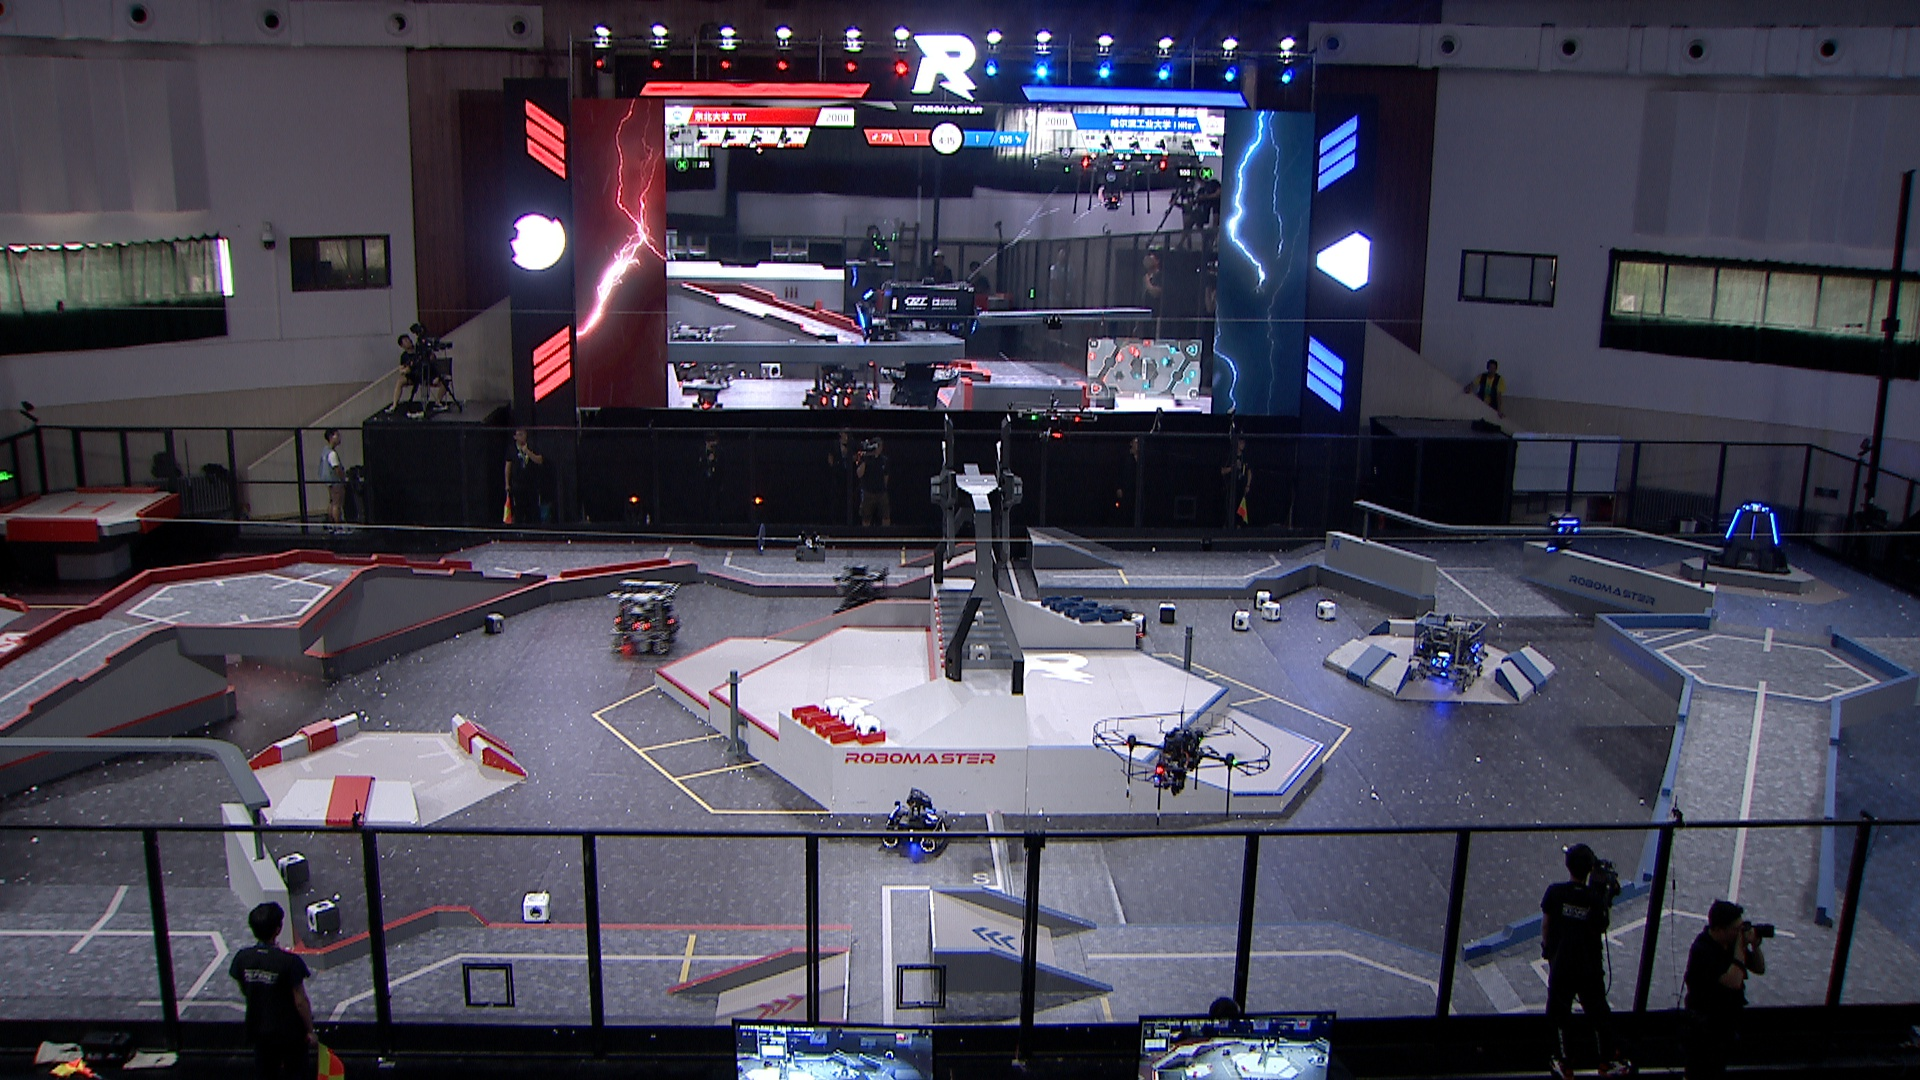armor: (1722, 506, 1742, 538), (1768, 512, 1782, 546), (1749, 513, 1759, 542), (1742, 502, 1770, 513), (1429, 657, 1449, 670), (1557, 524, 1581, 534), (632, 621, 654, 632), (920, 811, 939, 823), (938, 820, 949, 833)
base: (1698, 498, 1797, 575)
car: (1404, 612, 1490, 688), (604, 579, 684, 655), (880, 787, 956, 851), (829, 564, 898, 626)
ignore: (856, 276, 982, 406), (800, 360, 880, 410), (680, 375, 731, 413)
watcher: (1544, 510, 1589, 556)
